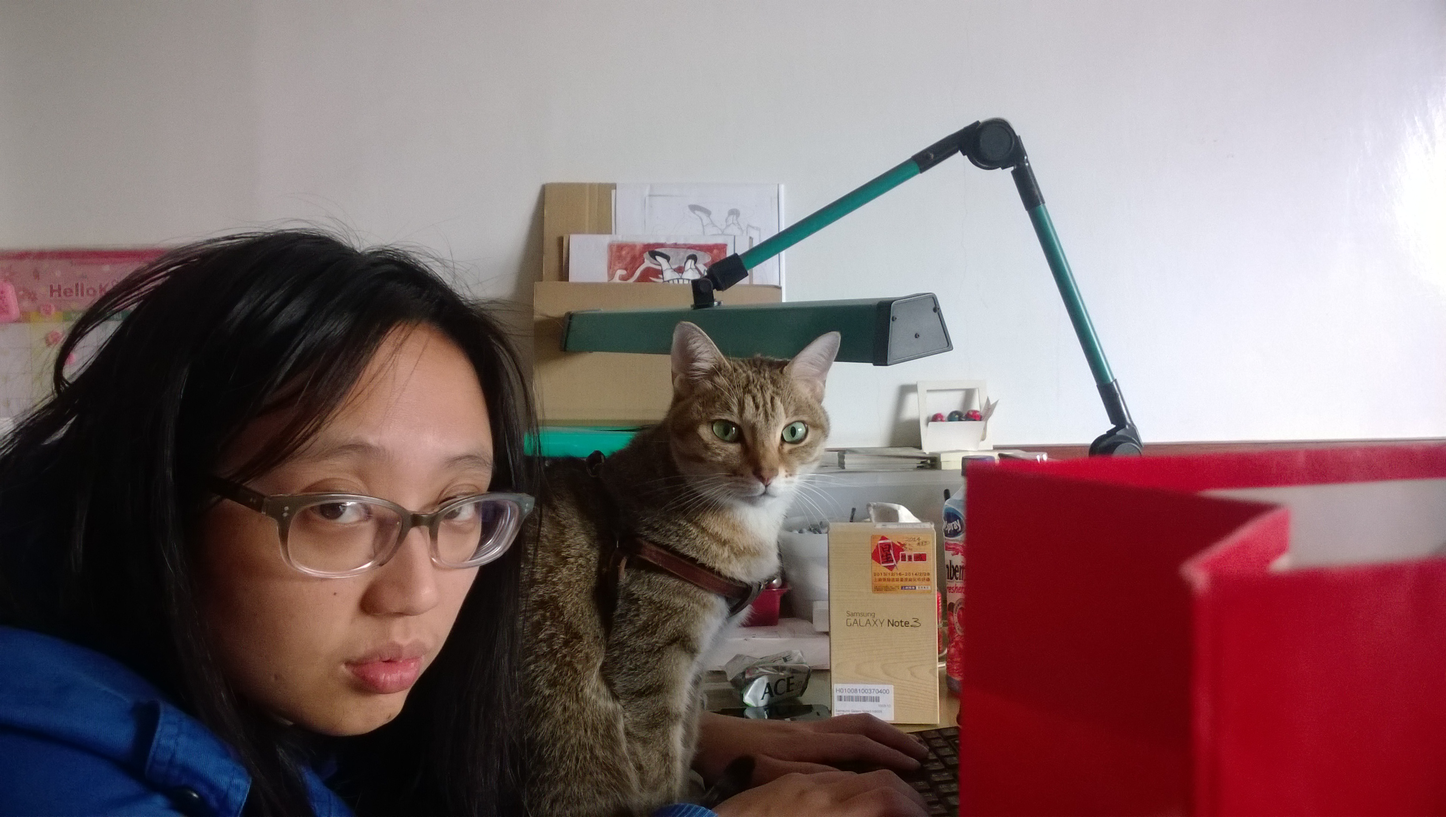cat: (526, 330, 837, 816)
